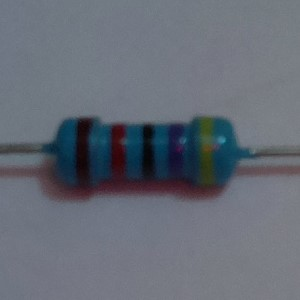black_band: (139, 122, 157, 184)
brown_band: (73, 114, 94, 186)
red_band: (107, 123, 129, 184)
violet_band: (166, 121, 187, 181)
yellow_band: (198, 115, 217, 190)
